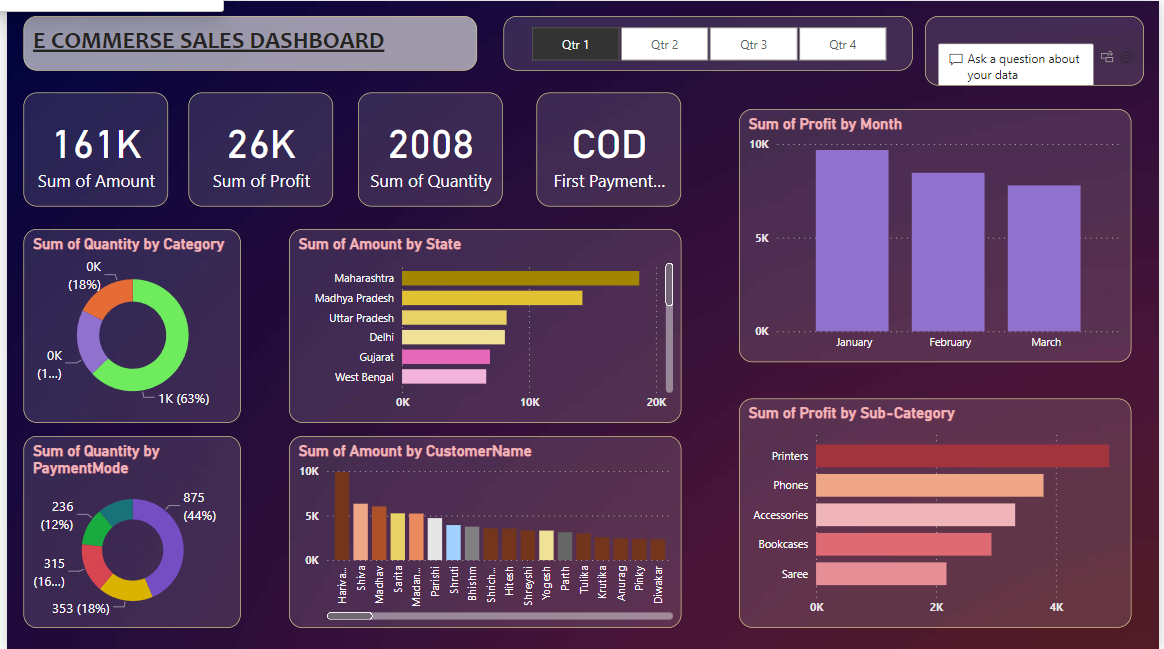

What the dashboard file says about the page in this screenshot:
{"tool":"powerbi","page":{"name":"Page 1","canvas":[1280,720],"ordinal":0},"visuals":[{"type":"textbox","box":[19.1,17.5,503.8,60.4],"z":0},{"type":"columnChart","fields":{"Category":["Orders.Order Date.Variation.Date Hierarchy.Month"],"Y":["Details.Profit"]},"box":[813.7,120.8,436.1,281.3],"z":1000},{"type":"barChart","fields":{"Category":["Details.Sub-Category"],"Y":["Details.Profit"]},"box":[813.7,441.8,436.1,254.9],"z":2000},{"type":"donutChart","fields":{"Category":["Details.PaymentMode"],"Y":["Details.Quantity"]},"box":[18.9,483.3,241.7,213.3],"z":3000},{"type":"donutChart","fields":{"Category":["Details.Category"],"Y":["Details.Quantity"]},"box":[18.9,253,241.7,215.2],"z":4000},{"type":"card","fields":{"Values":["Details.Amount"]},"box":[18.9,101.9,160.5,126.5],"z":5000},{"type":"card","fields":{"Values":["Details.Profit"]},"box":[202,101.9,160.5,126.5],"z":6000},{"type":"card","fields":{"Values":["Details.Quantity"]},"box":[390.8,101.9,160.5,126.5],"z":7000},{"type":"card","fields":{"Values":["Details.PaymentMode"]},"box":[589,101.9,160.5,126.5],"z":8000},{"type":"barChart","fields":{"Category":["Orders.State"],"Y":["Details.Amount"]},"box":[313.4,253,436.1,215.2],"z":9000},{"type":"qnaVisual","box":[1019.5,17,243.5,77.4],"z":10000},{"type":"columnChart","fields":{"Category":["Orders.CustomerName"],"Y":["Details.Amount"]},"box":[313,483,436,213],"z":11000},{"type":"slicer","fields":{"Values":["Orders.Order Date.Variation.Date Hierarchy.Quarter"]},"box":[551.3,17,455,60.4],"z":12000}]}

Visuals, with their boxes in screenshot pixels (x1, y1, x2, y2), scaled from the page's 1280x720 canvas onto the 1164x649 screenshot:
textbox: Rect(17, 16, 476, 70)
columnChart - Orders.Order Date.Variation.Date Hierarchy.Month x Details.Profit: Rect(740, 109, 1137, 362)
barChart - Details.Sub-Category x Details.Profit: Rect(740, 398, 1137, 628)
donutChart - Details.PaymentMode x Details.Quantity: Rect(17, 436, 237, 628)
donutChart - Details.Category x Details.Quantity: Rect(17, 228, 237, 422)
card - Details.Amount: Rect(17, 92, 163, 206)
card - Details.Profit: Rect(184, 92, 330, 206)
card - Details.Quantity: Rect(355, 92, 501, 206)
card - Details.PaymentMode: Rect(536, 92, 682, 206)
barChart - Orders.State x Details.Amount: Rect(285, 228, 682, 422)
qnaVisual: Rect(927, 15, 1149, 85)
columnChart - Orders.CustomerName x Details.Amount: Rect(285, 435, 681, 627)
slicer - Orders.Order Date.Variation.Date Hierarchy.Quarter: Rect(501, 15, 915, 70)
